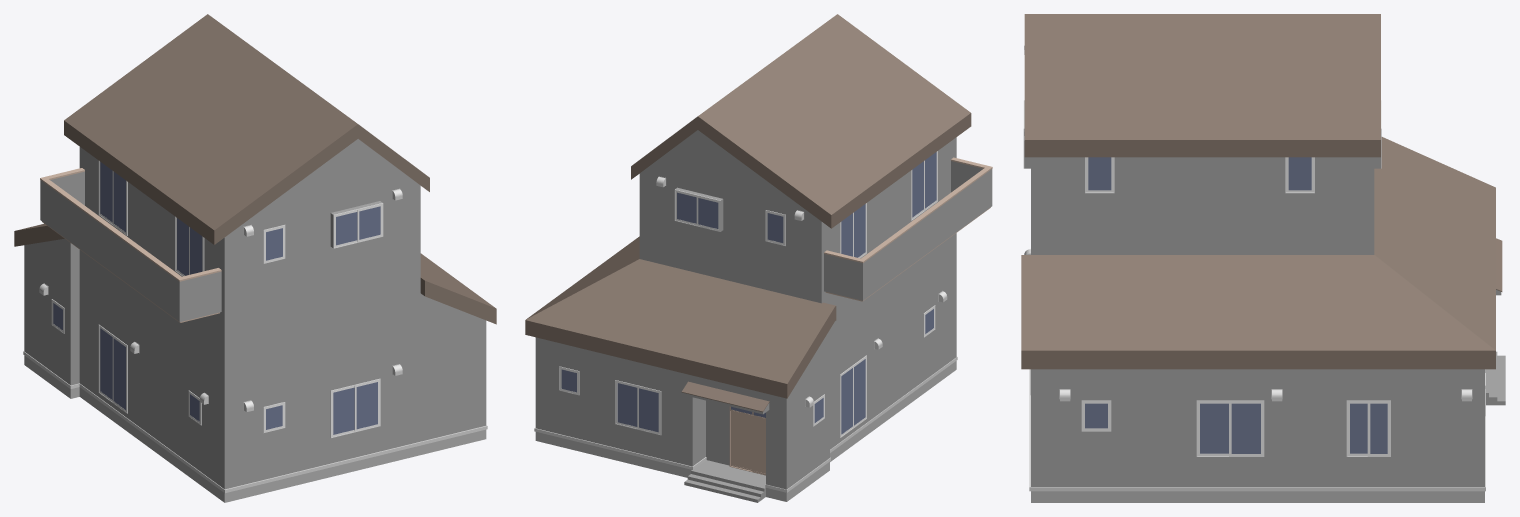
Rendered from MobHouse77.fbx.
The picture shows the model from 3 angles, left to right: view 1: azimuth 30°, elevation 25°; view 2: azimuth 150°, elevation 25°; view 3: azimuth 270°, elevation 25°; orthographic projection. The views are drawn at different scales.
Parts seen in each view (by area): view 1: Flat_half_house02.036; view 2: Flat_half_house02.036; view 3: Flat_half_house02.036.
Boxes of the visible parts, x1=… form: Flat_half_house02.036: x1=14, y1=14, x2=496, y2=502; Flat_half_house02.036: x1=525, y1=14, x2=992, y2=502; Flat_half_house02.036: x1=1021, y1=14, x2=1505, y2=502.
Size of the model in its own units: 8.14 by 8.76 by 9.29.
